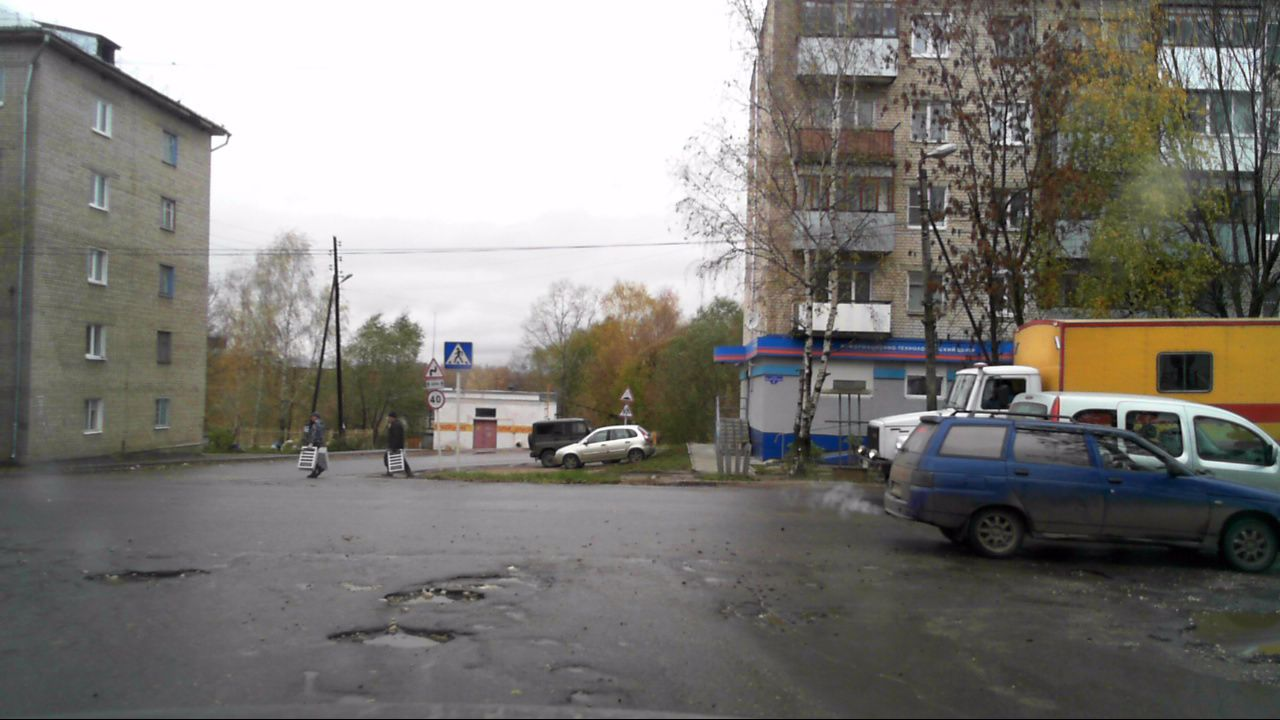speed_warning_40: (424, 388, 448, 410)
